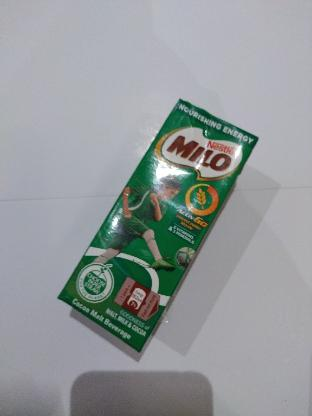Others: (58, 99, 258, 351)
